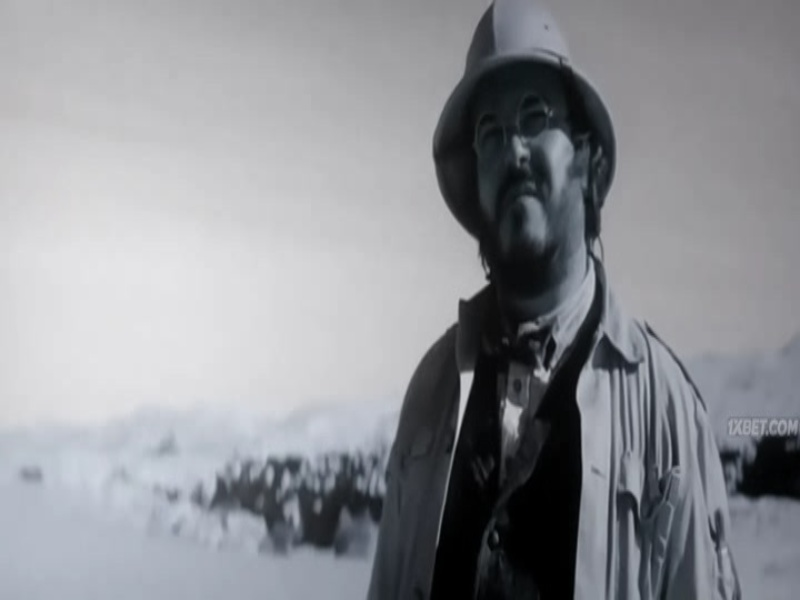TsisyArotava: (436, 36, 612, 291)
